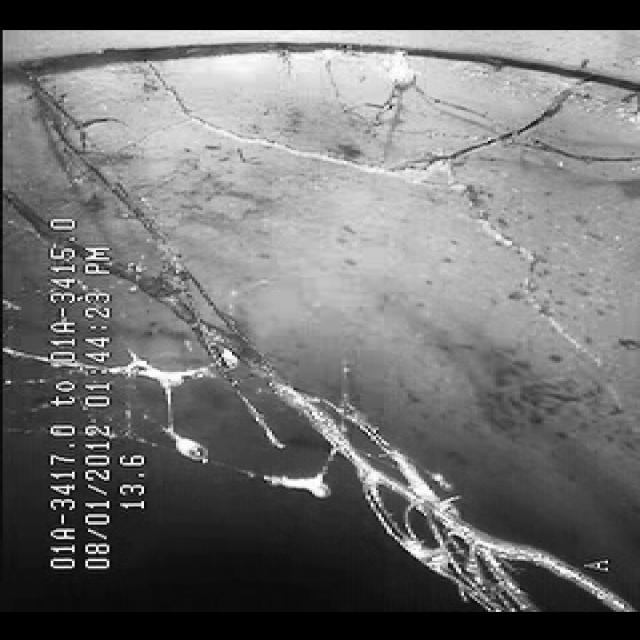Crack: (161, 64, 573, 194)
Fracture: (166, 342, 552, 582)
